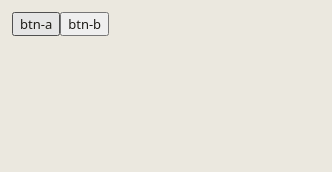
W.08.04 Tooltip › W0804-T13 Tooltip：400ms 延迟、暖场立即切换、聚焦立即、只显示一个、Esc 不阻止冒泡
Later steps or results of the test are not shown.
Hover over the button "btn-b".
mouse_move(85, 24)  # box [60,12,109,36]
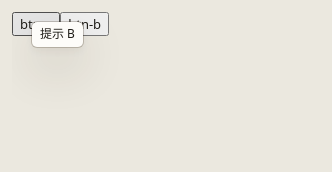
expect the number of tooltips is 1: met, box [32,22,83,47]
expect the text "提示 B" is shown: met, box [40,26,75,43]
